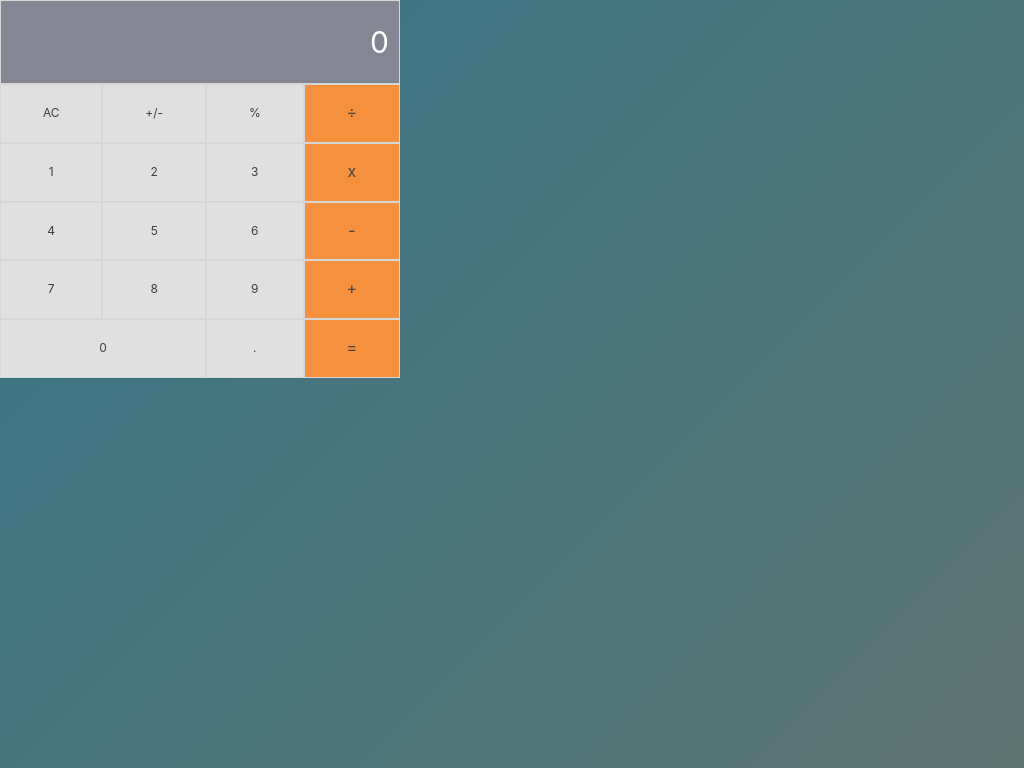
renders the changes when the calcultor button is clicked
What coordinates should you click on to do the following:
click the button "1"
I would click on:
 (51, 172)
Its box is [0,143,102,202].
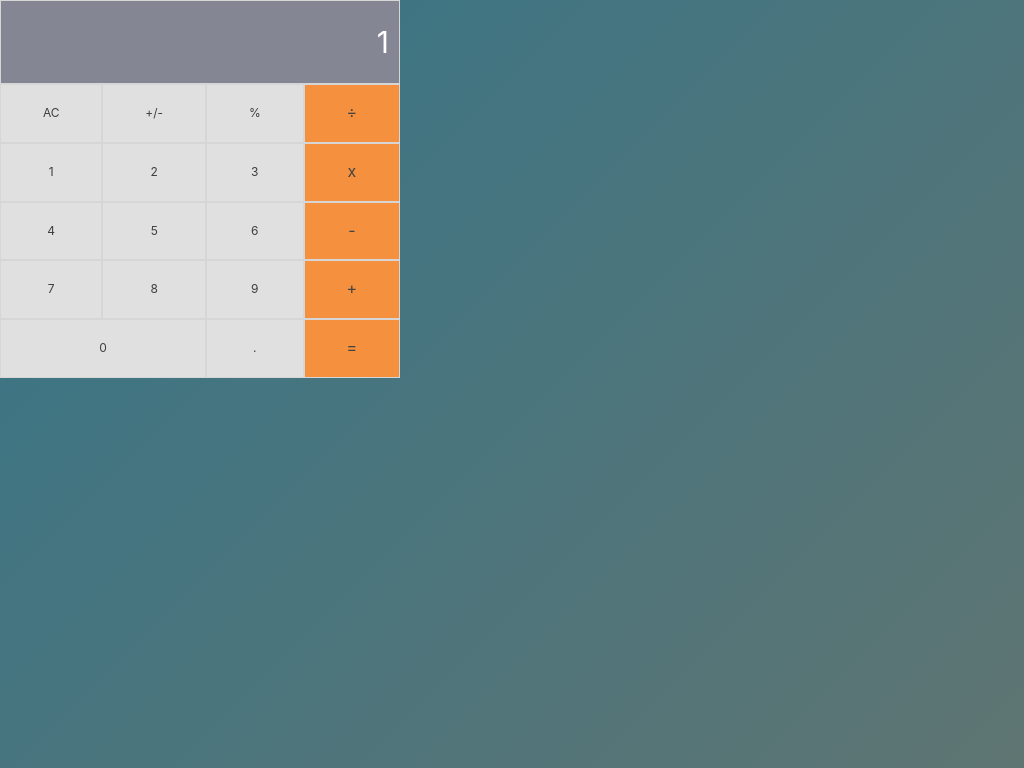
What coordinates should you click on to do the following:
click the button "5"
I would click on:
 (154, 231)
Its box is [102,202,206,260].
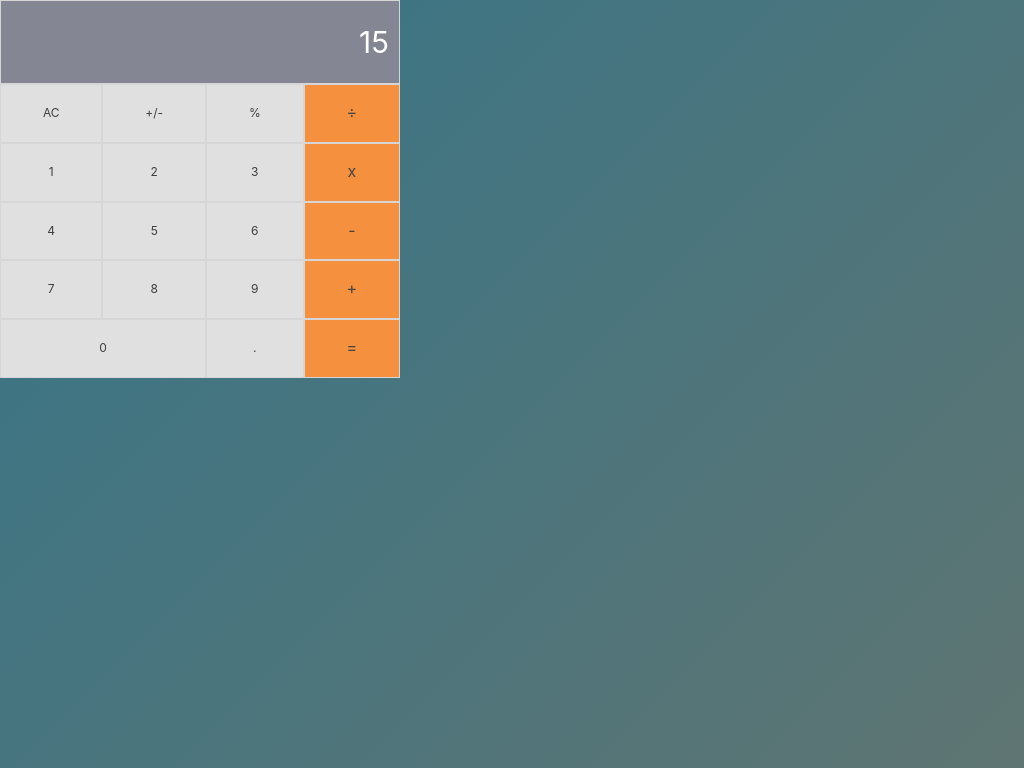
Expected: the text "15" is shown, [0,0,400,84]
